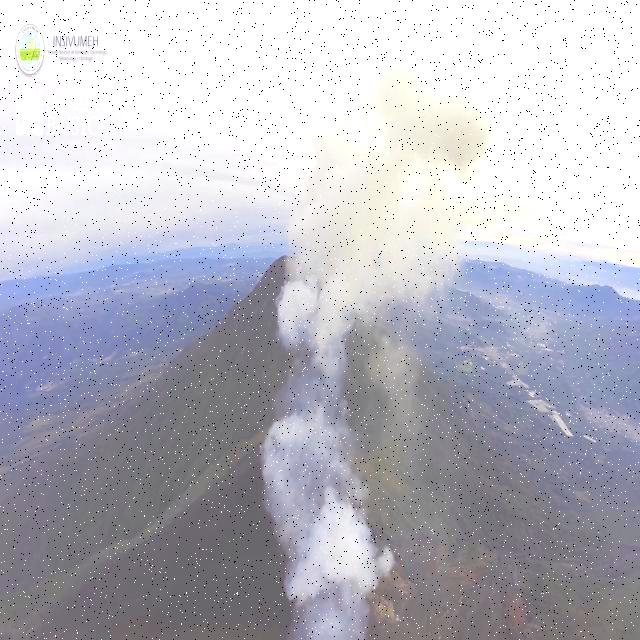Plume: (260, 41, 501, 640)
